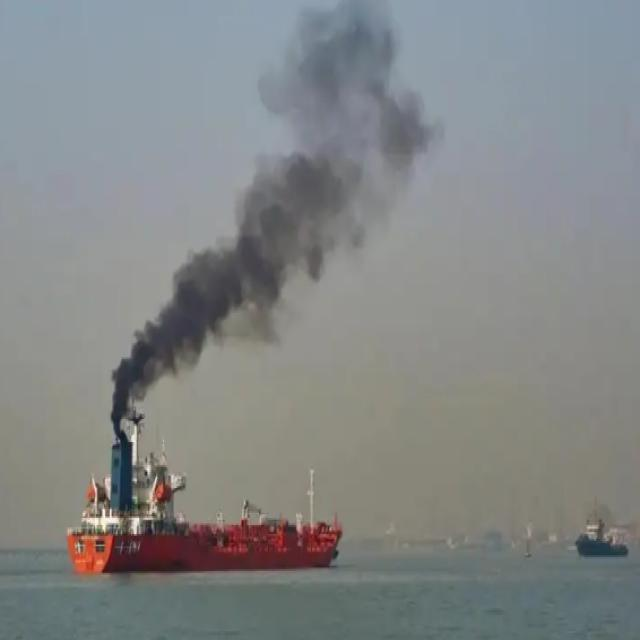cargoship: (70, 406, 347, 577), (575, 514, 630, 554)
